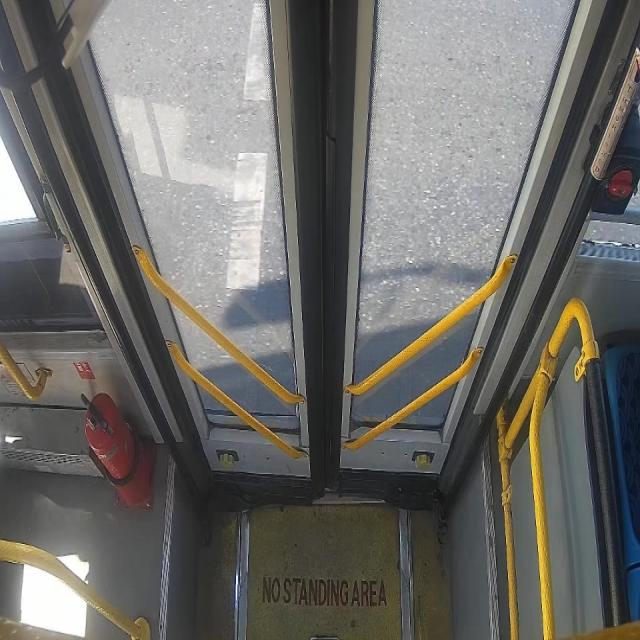close: (75, 3, 577, 489)
